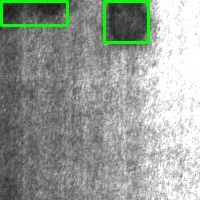patches: (104, 1, 148, 42), (1, 1, 67, 25)
